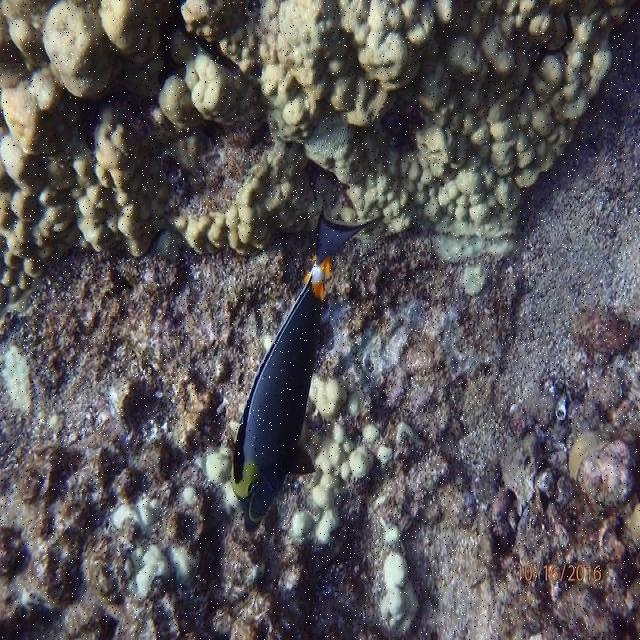fish: (227, 197, 387, 532)
